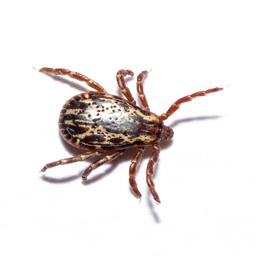Dermacentor variabilis: (40, 65, 225, 204)
